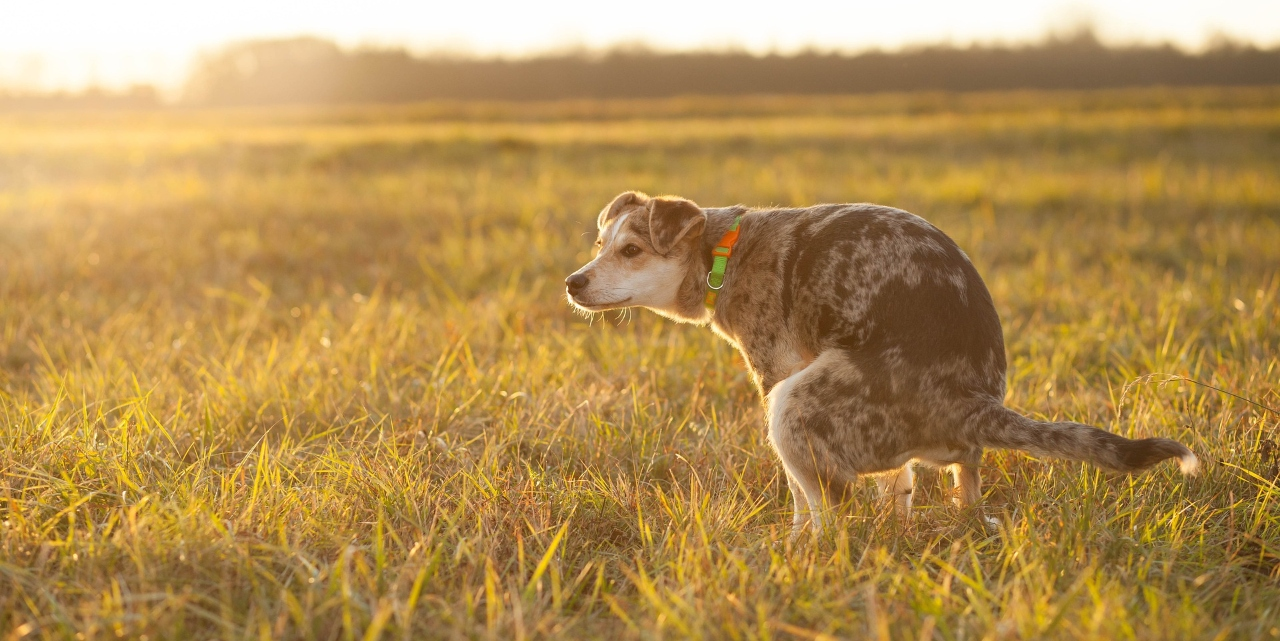dog_pooping: (560, 184, 1206, 565)
